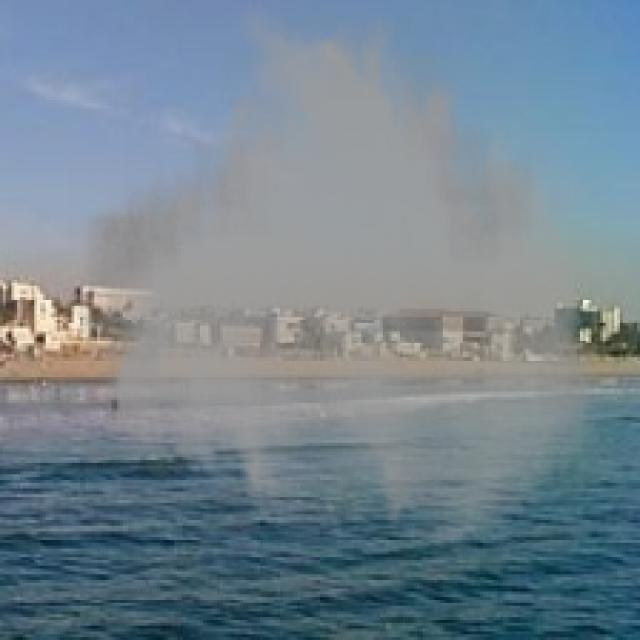smoke: (74, 0, 606, 549)
